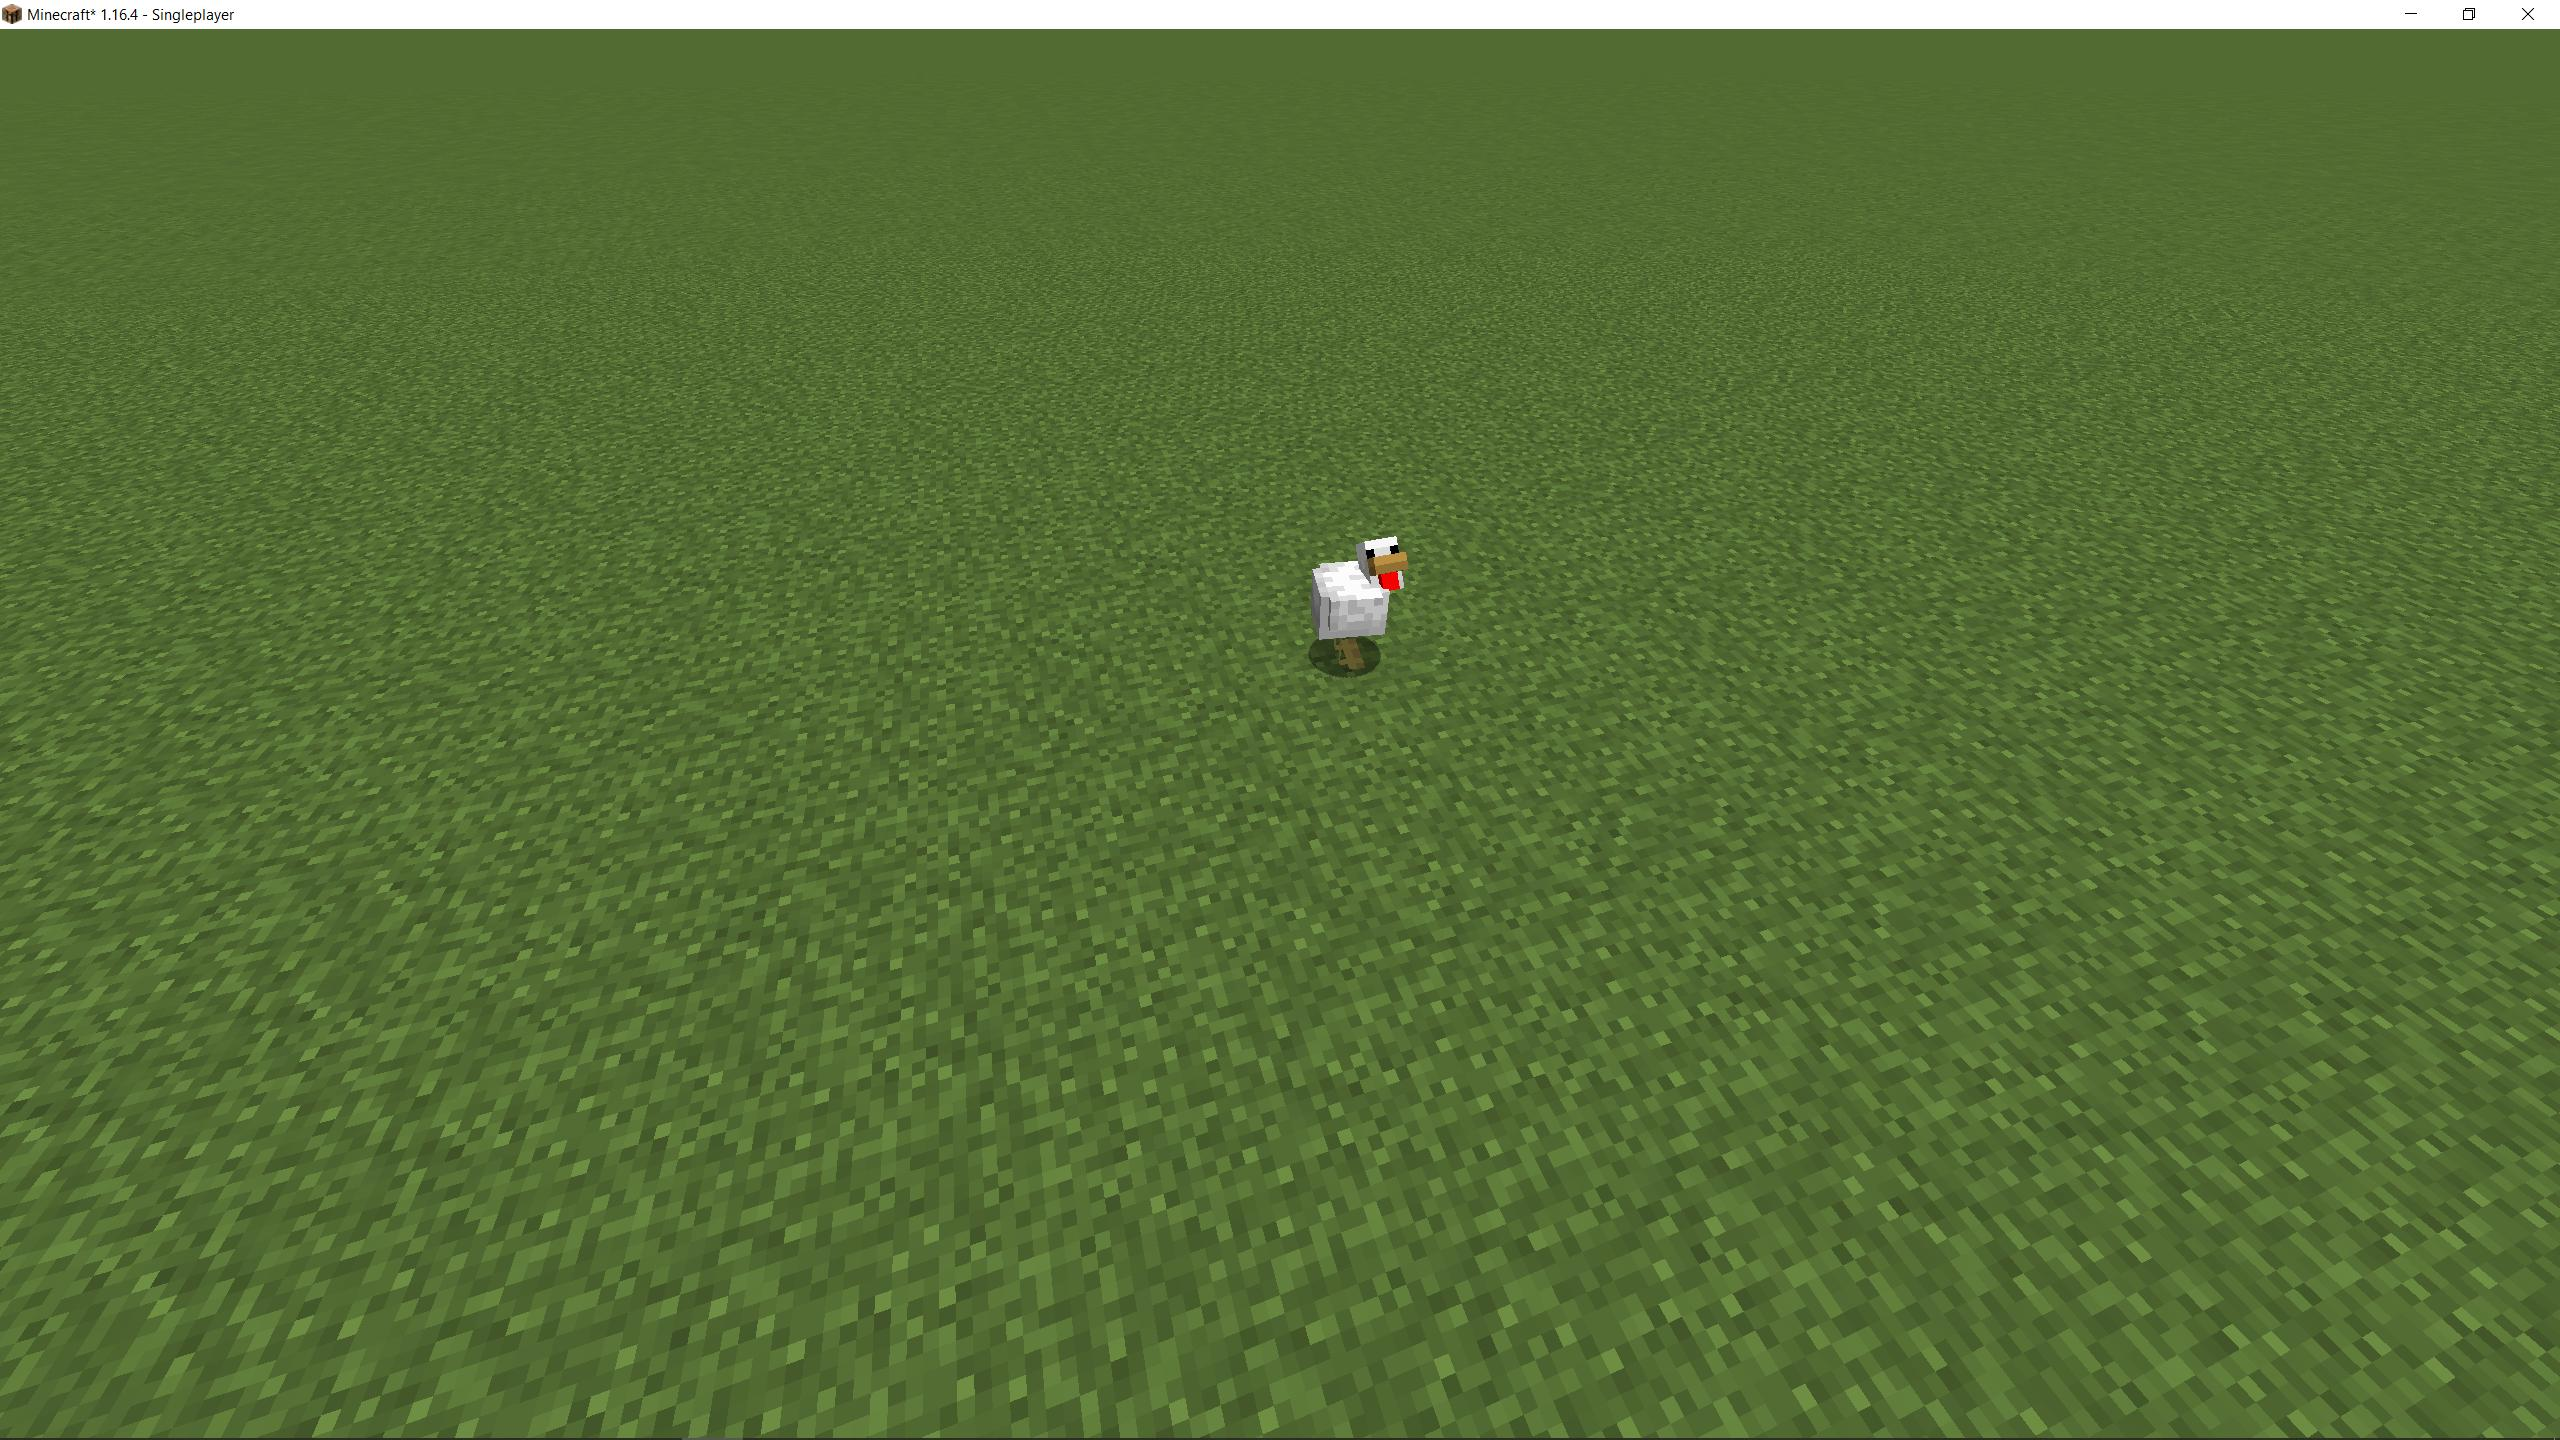chicken: (1306, 527, 1415, 679)
